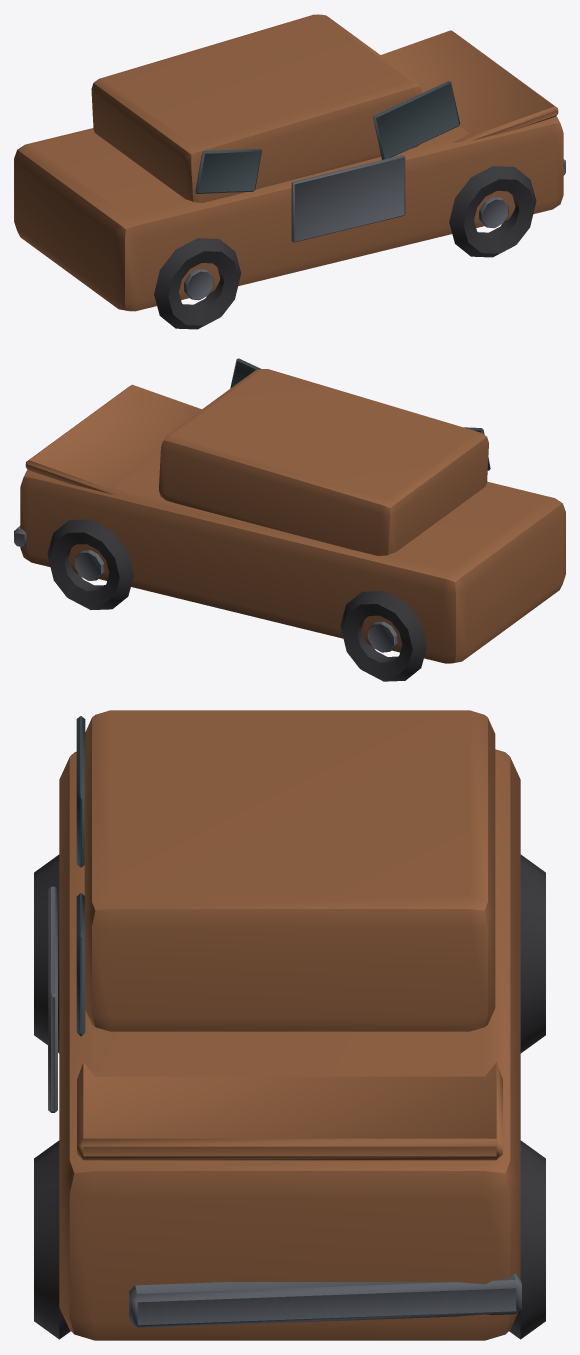
File: wrecked_car.glb
3 renders of one model, top to bottom at view 1: azimuth 30°, elevation 25°; view 2: azimuth 150°, elevation 25°; view 3: azimuth 270°, elevation 25°, orthographic. The views are drawn at different scales.
Parts seen in each view (by area): view 1: wrecked_car; view 2: wrecked_car; view 3: wrecked_car.
Part boxes in pixels (<box>): wrecked_car: <box>14,14,565,329</box>; wrecked_car: <box>14,358,565,681</box>; wrecked_car: <box>34,710,545,1340</box>.
Bounding box in the file's own units: 4.19 × 1.6 × 2.02.
